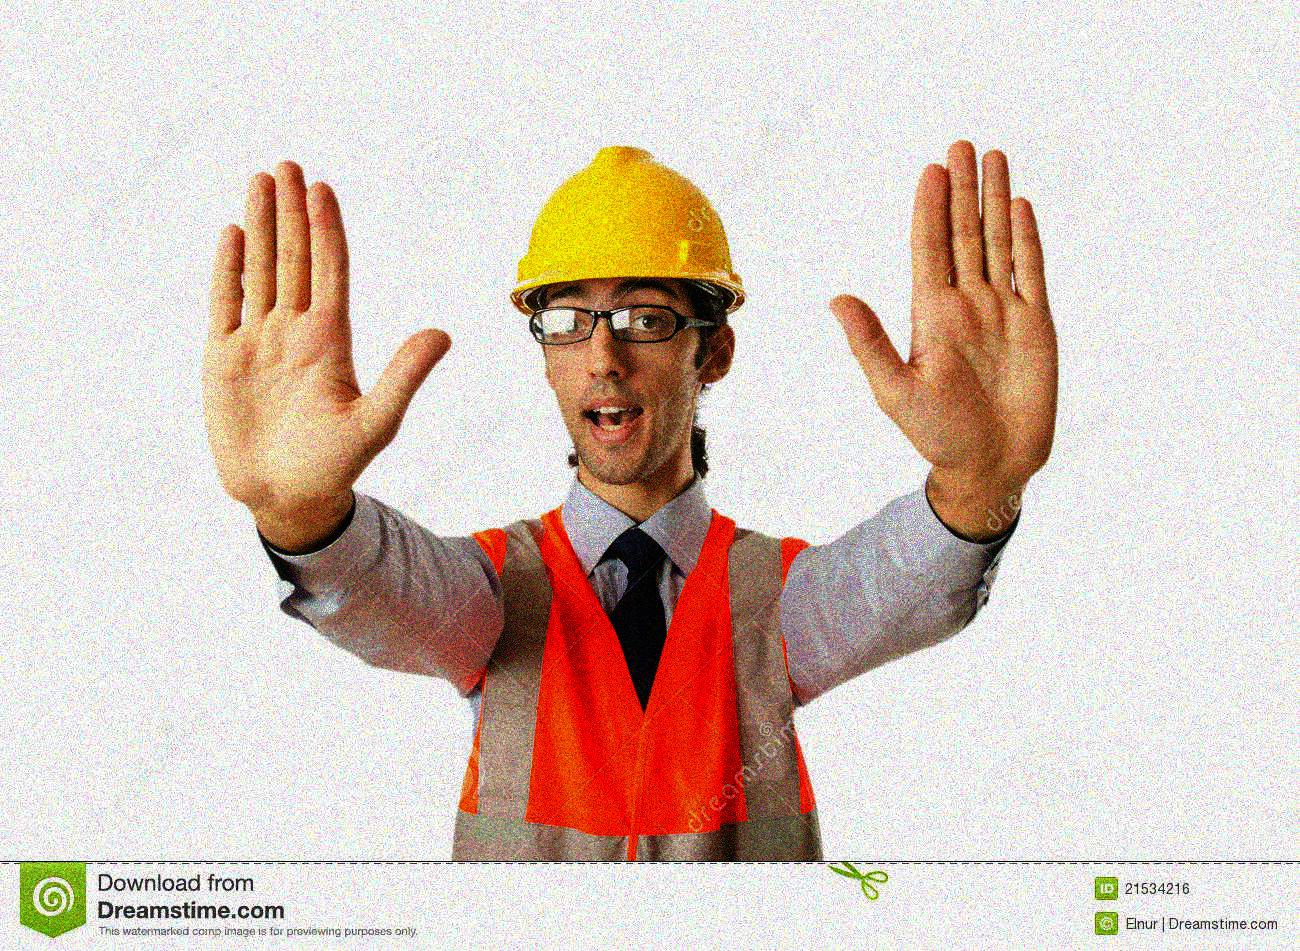helmet: (504, 138, 750, 485)
